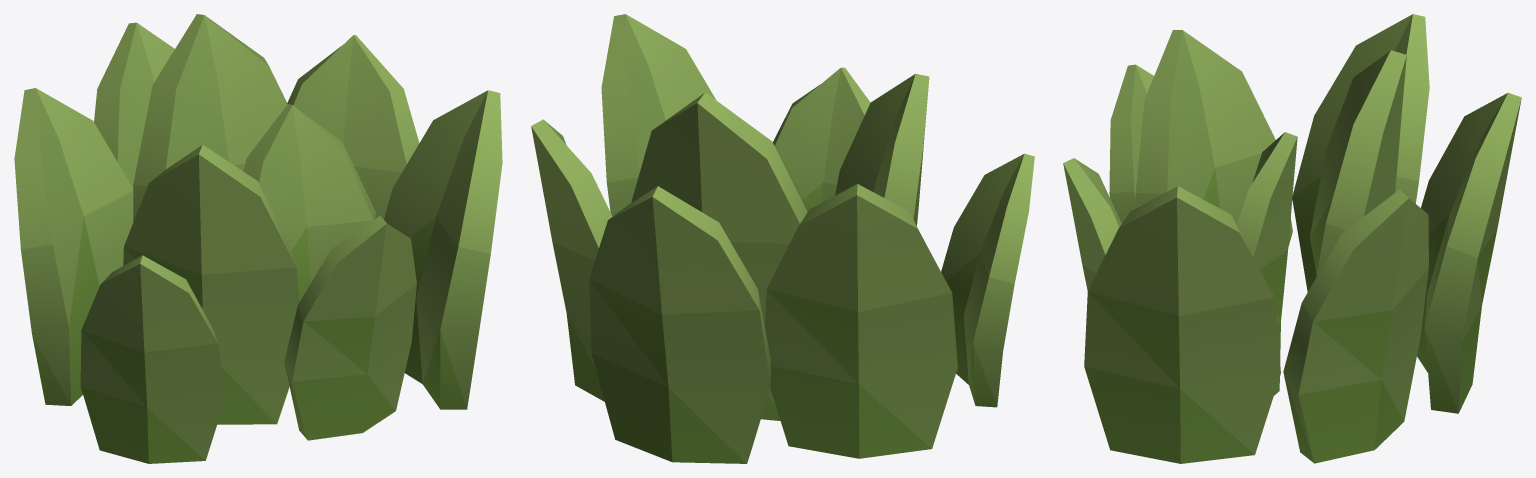
Rendered from itch_kaykit_forest_grass_1_c_color1.glb.
3 views of the same model, side by side, from view 1: azimuth 30°, elevation 25°; view 2: azimuth 150°, elevation 25°; view 3: azimuth 270°, elevation 25° (orthographic). The views are drawn at different scales.
Visible parts, largest first — view 1: Grass_1_C_Color1; view 2: Grass_1_C_Color1; view 3: Grass_1_C_Color1.
Part boxes in pixels (<box>): Grass_1_C_Color1: <box>14,14,502,463</box>; Grass_1_C_Color1: <box>531,14,1034,463</box>; Grass_1_C_Color1: <box>1063,14,1521,463</box>.
Bounding box in the file's own units: 0.96 × 0.745 × 0.9157.
